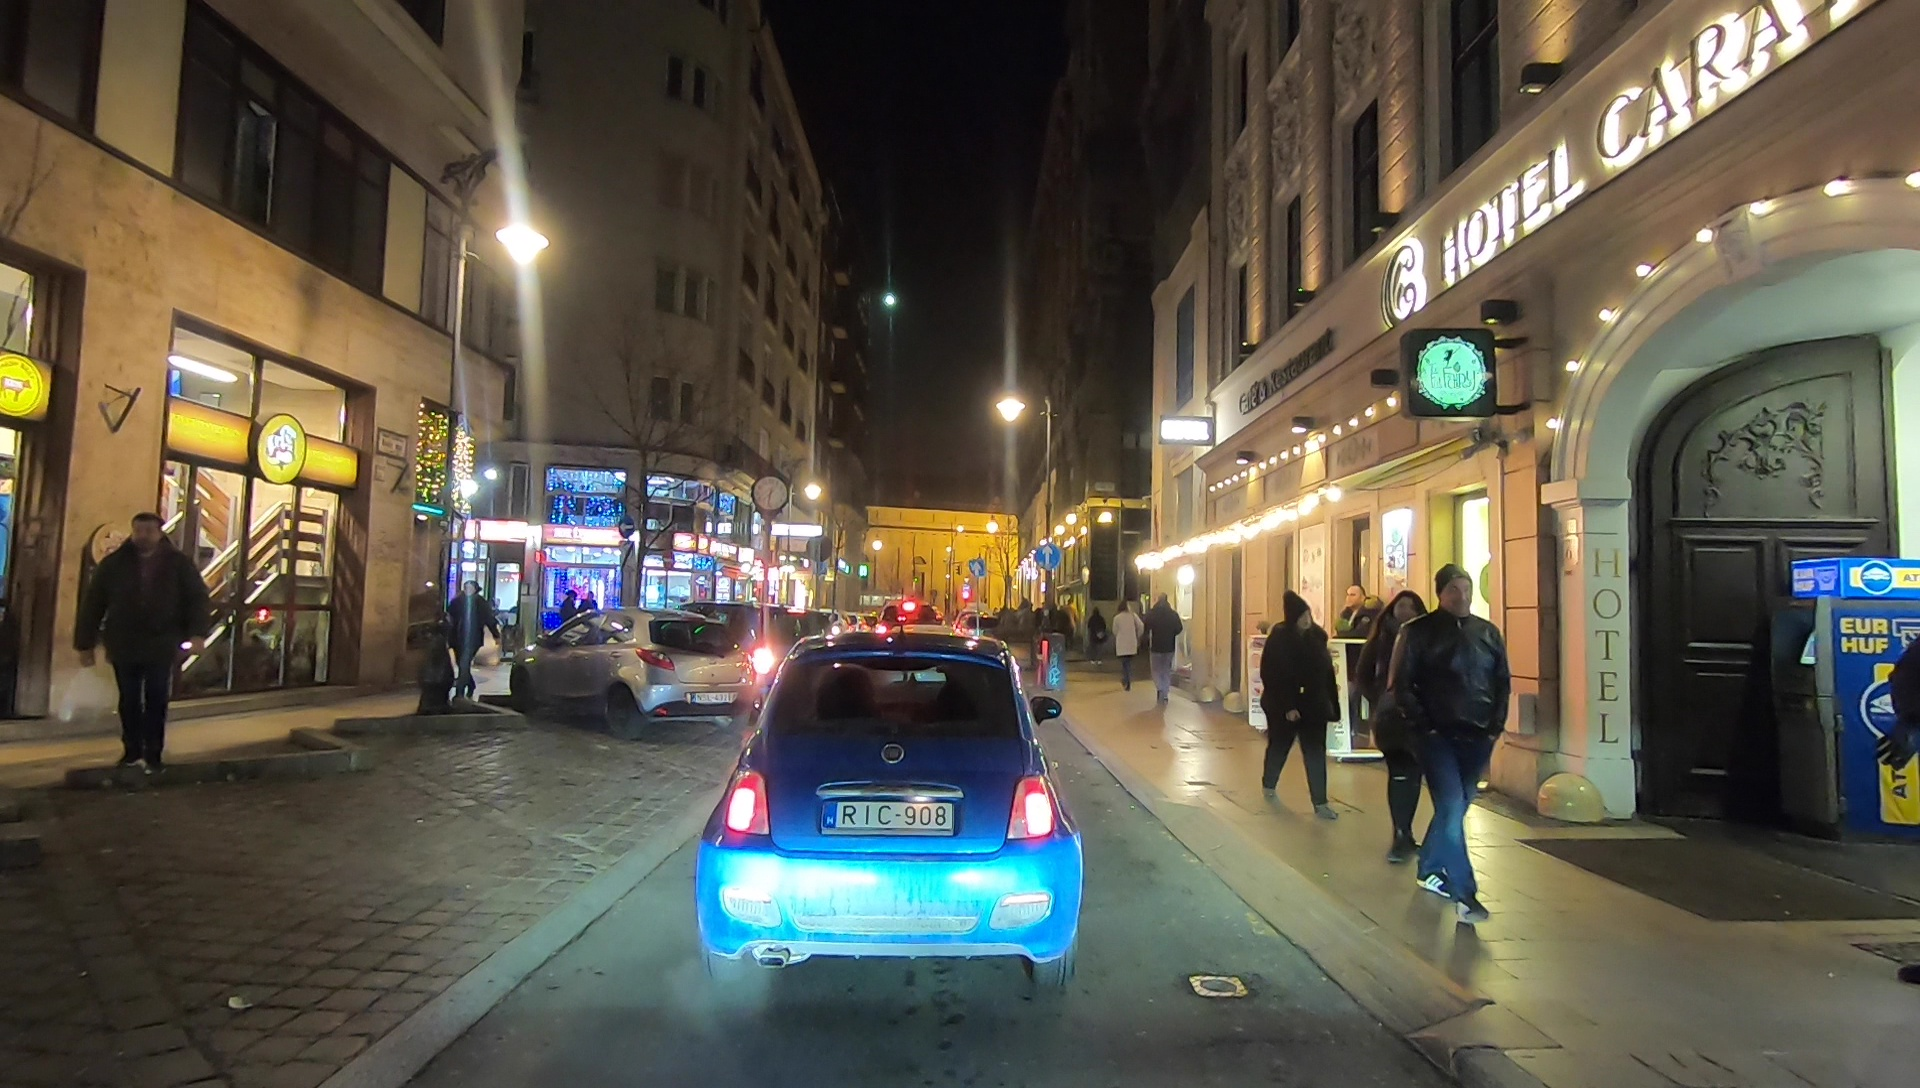person: (1402, 580, 1508, 924), (86, 515, 208, 776), (1258, 593, 1343, 830), (1371, 591, 1439, 865), (447, 587, 502, 711), (1147, 594, 1178, 703), (1112, 602, 1140, 689), (556, 589, 577, 662), (580, 589, 599, 670), (1087, 604, 1104, 665), (1061, 599, 1078, 650)
